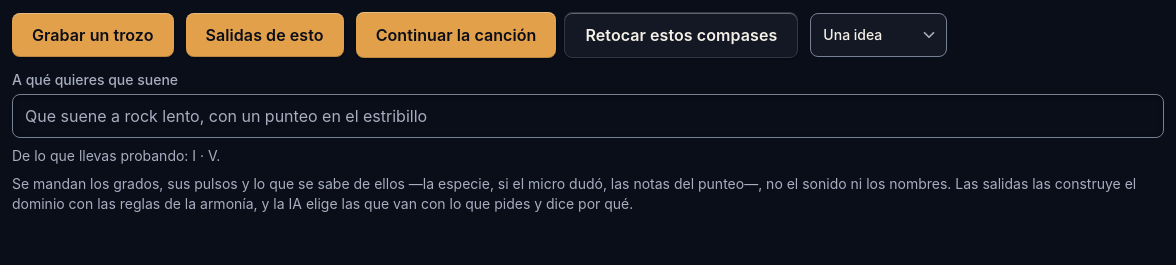
Test: lo que se enseña › el error del servidor se enseña tal y como lo escribe el servidor
The image size is (1176, 265).
Click the button "Salidas de esto". click: (265, 35)
box: [186, 13, 344, 57]
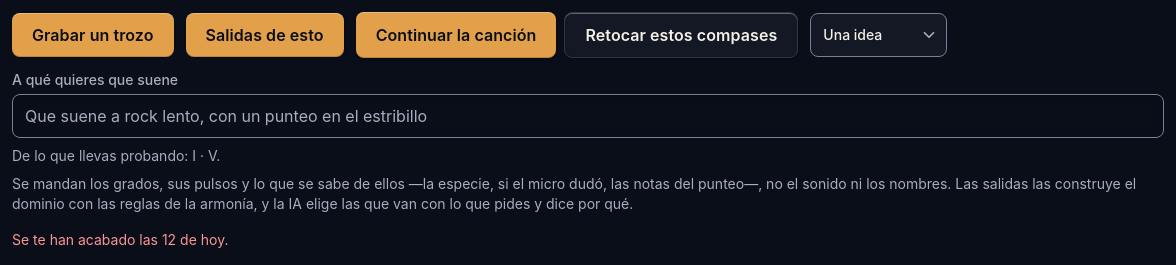
Now the message "Se te han acabado las 12 de hoy." is shown, box [12, 231, 228, 248]
